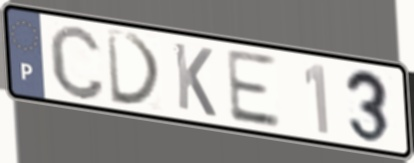1: (302, 61, 331, 136)
3: (344, 66, 398, 147)
C: (46, 22, 108, 103)
D: (104, 27, 166, 110)
E: (223, 46, 284, 131)
K: (171, 39, 219, 120)
